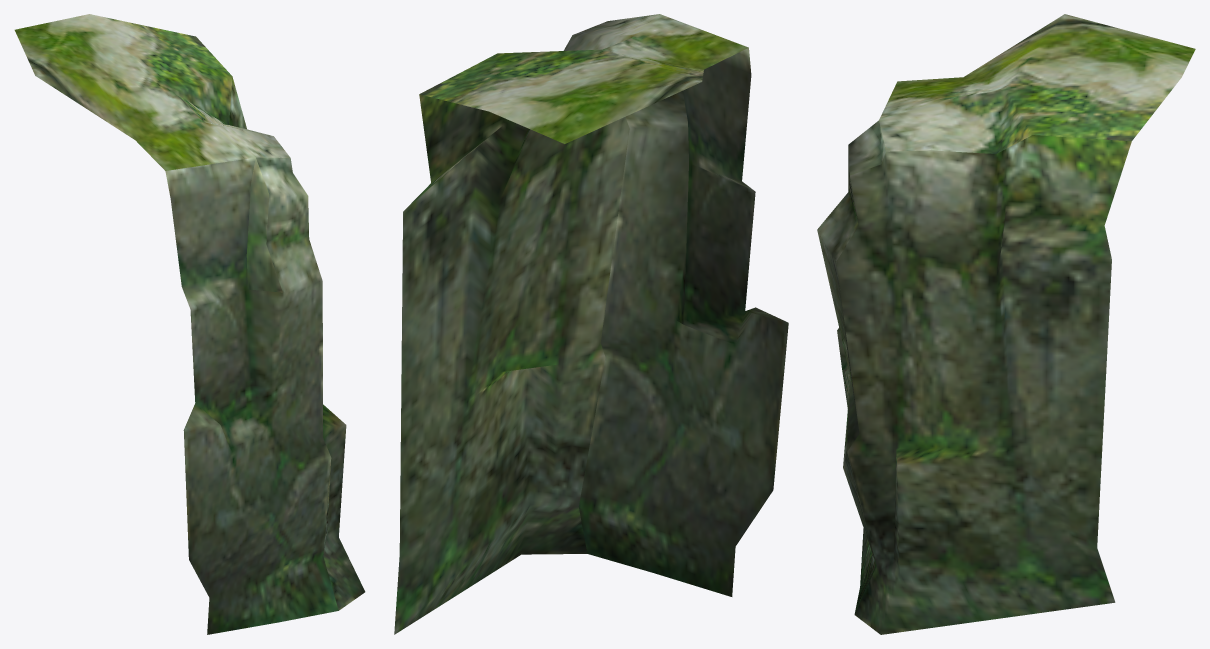
Rendered from S_Rock_Green048_1060_15.fbx.
The picture shows the model from 3 angles, left to right: view 1: azimuth 30°, elevation 25°; view 2: azimuth 150°, elevation 25°; view 3: azimuth 270°, elevation 25°; orthographic projection. The views are drawn at different scales.
Parts seen in each view (by area): view 1: S_Rock_Green048_1060_15; view 2: S_Rock_Green048_1060_15; view 3: S_Rock_Green048_1060_15.
Part boxes in pixels (box(x1,y1,x2,y2)): S_Rock_Green048_1060_15: box(14, 14, 365, 634); S_Rock_Green048_1060_15: box(394, 14, 788, 634); S_Rock_Green048_1060_15: box(817, 14, 1195, 634).
Size of the model in its own units: 1024 by 2085 by 1416.
1 material, 1 textured.
